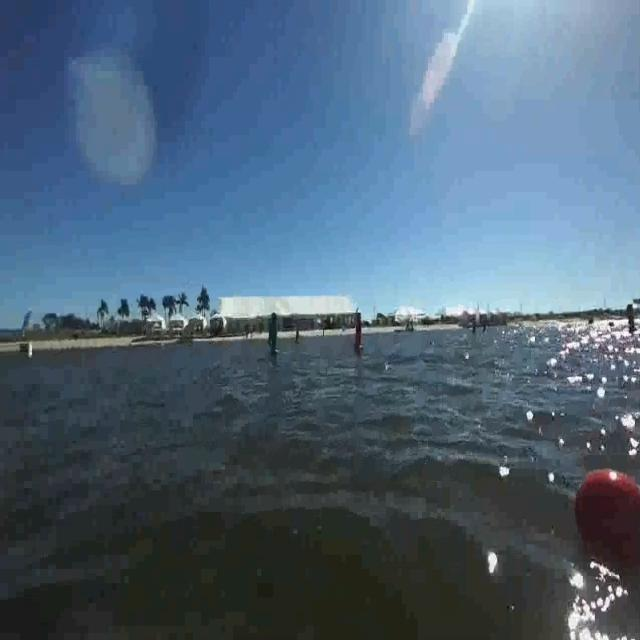green-column-buoy: (267, 312, 283, 357)
red-buoy: (570, 462, 640, 562)
red-column-buoy: (354, 316, 364, 352)
